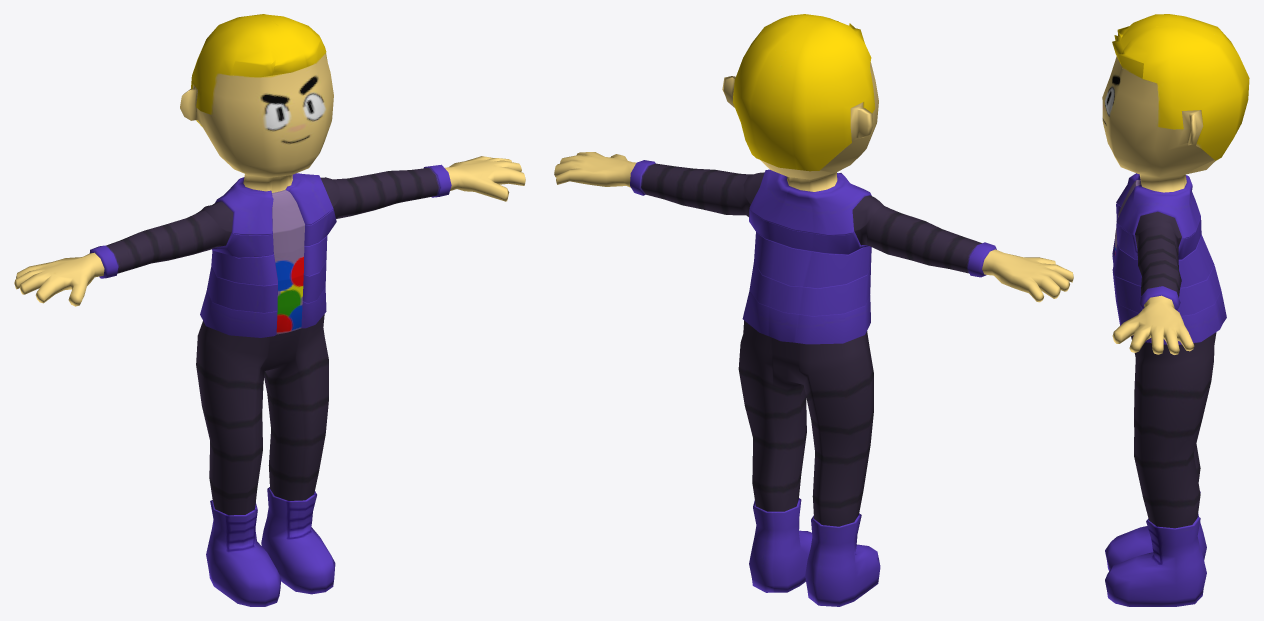
File: avatar test.obj
The picture shows the model from 3 angles, left to right: view 1: azimuth 30°, elevation 25°; view 2: azimuth 150°, elevation 25°; view 3: azimuth 270°, elevation 25°; orthographic projection.
Parts seen in each view (by area): view 1: Avatar_model; view 2: Avatar_model; view 3: Avatar_model.
Boxes of the visible parts, x1,y1,x2,y2 form: Avatar_model: (14,14,525,606); Avatar_model: (554,14,1073,606); Avatar_model: (1102,14,1249,606).
Bounding box in the file's own units: 8.89 × 9.47 × 2.25.
Materials: 1 (1 with a texture image).
